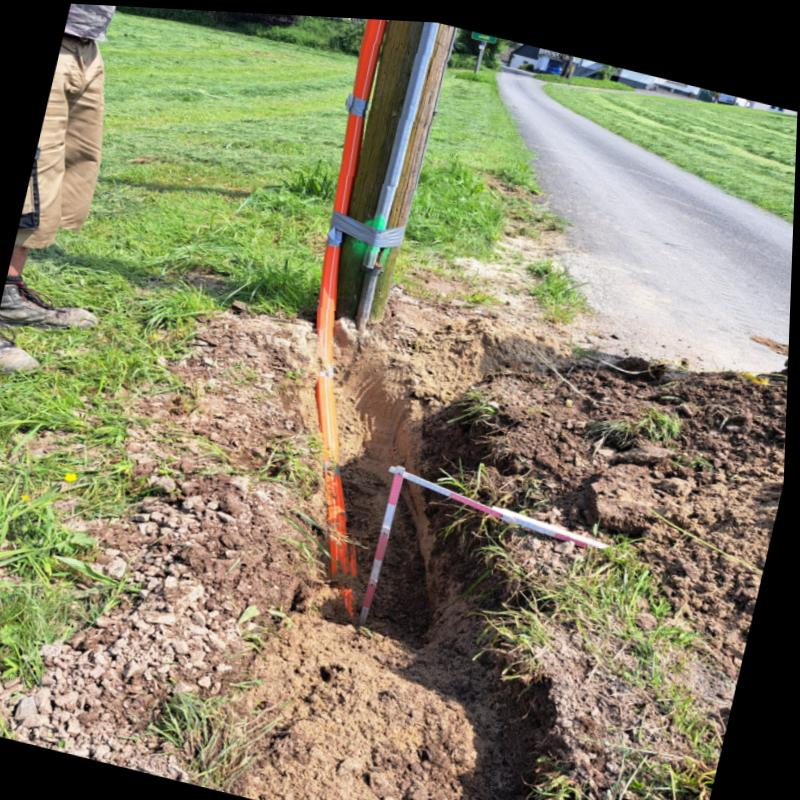Orang-Speednetrohrchen: (315, 15, 386, 582)
